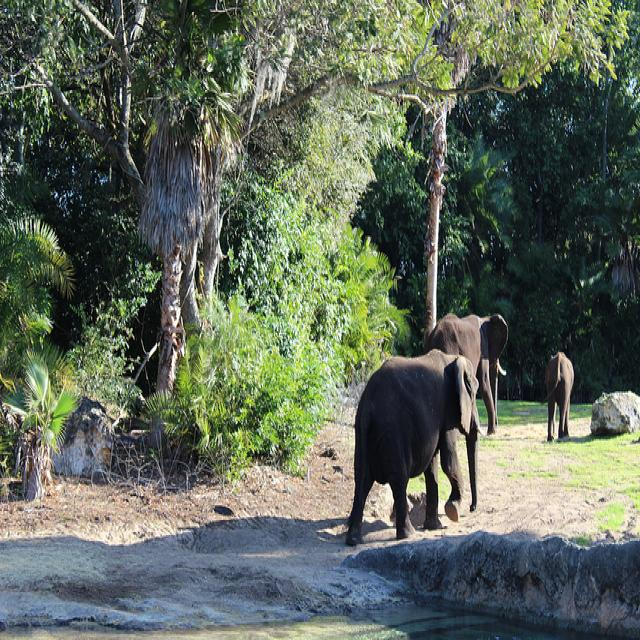Elephant: (345, 346, 485, 546), (423, 312, 508, 434), (545, 351, 574, 442)
